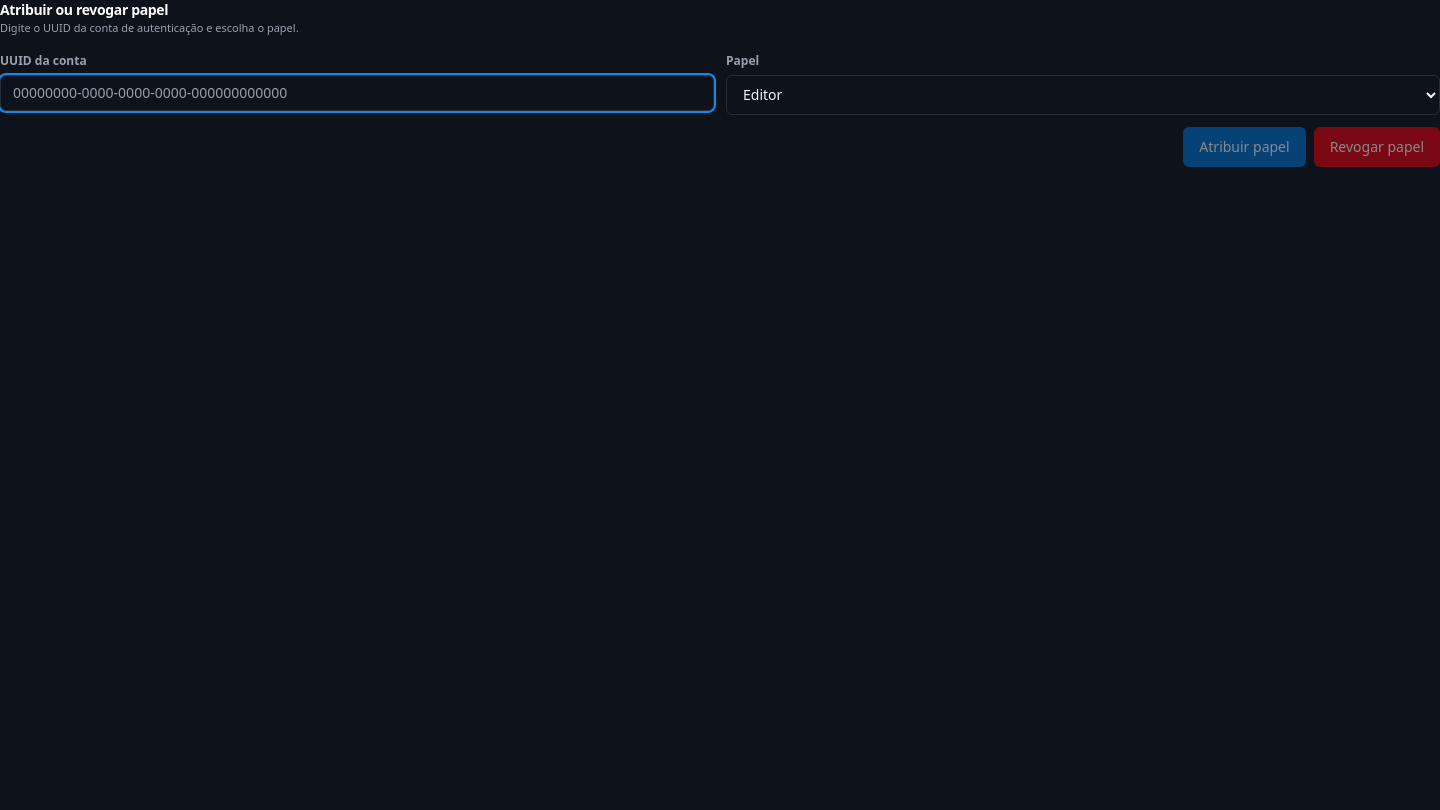
Scenario: UsuariosForm › abre o dialogo de confirmacao ao clicar em Atribuir papel
Type "00000000-0000-4000-8000-000000000002" into the field labelled "UUID da conta" at (357, 92), box [0,74,714,110]
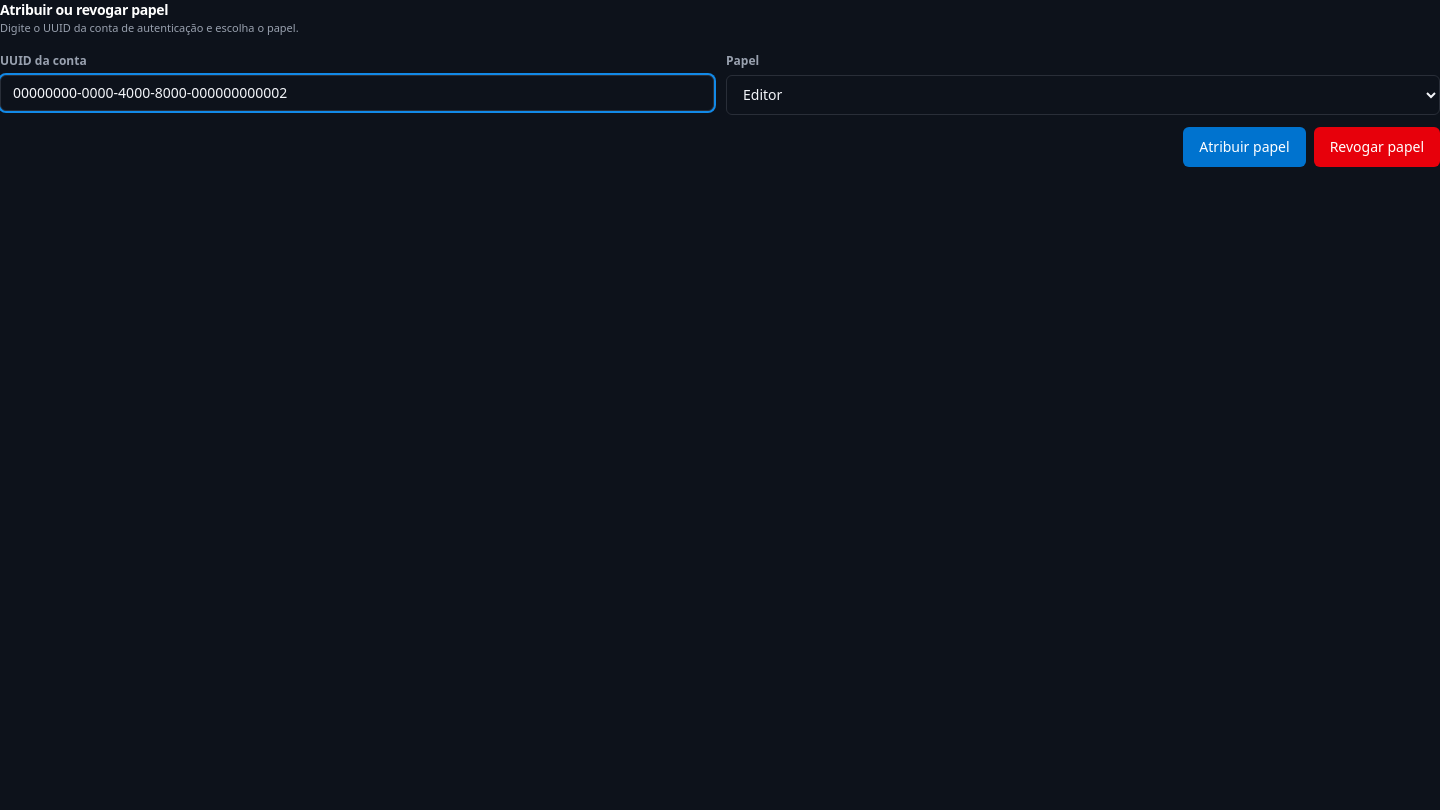
Click the button "Atribuir papel" at (1244, 146), box [1183,126,1306,166]
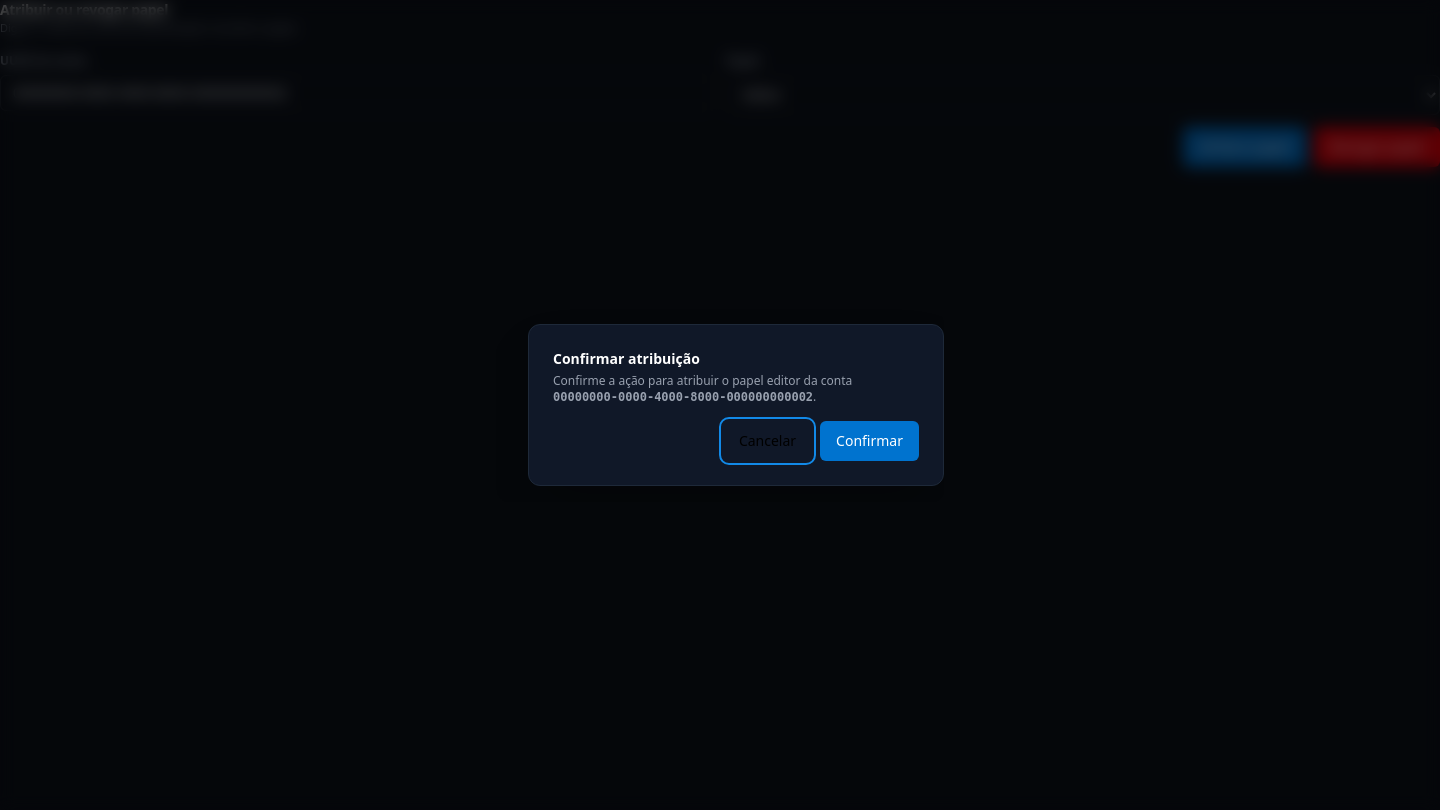
Check: the dialog is shown, box [496,308,944,502]
Check: the heading "Confirmar atribuição" is shown, box [553,349,700,368]
Check: the text "00000000-0000-4000-8000-000000000002" is shown, box [553,390,813,404]
